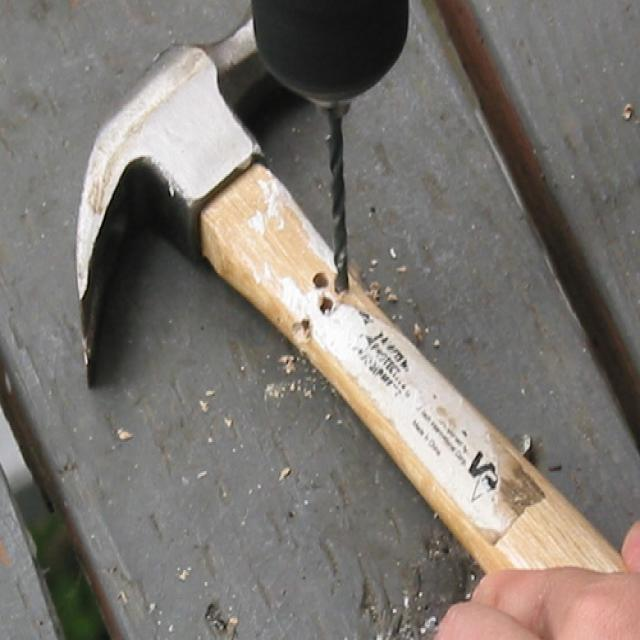hammer: (59, 3, 634, 616)
